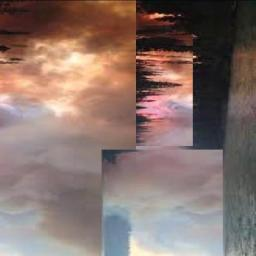Heavy smoke: (0, 3, 132, 137), (108, 150, 223, 251), (1, 141, 102, 254)
